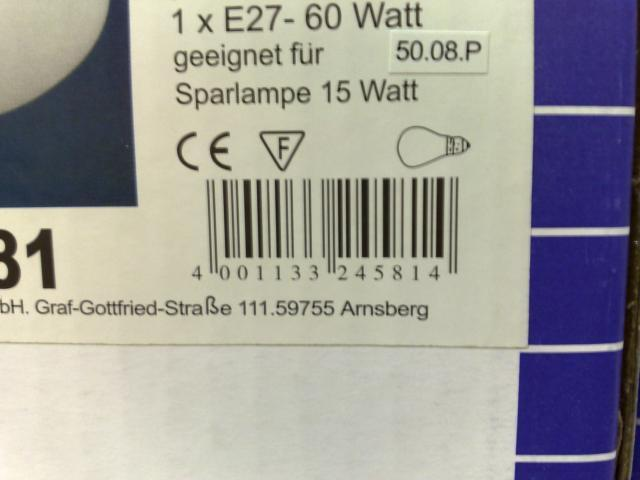Barcode: (187, 174, 462, 286)
